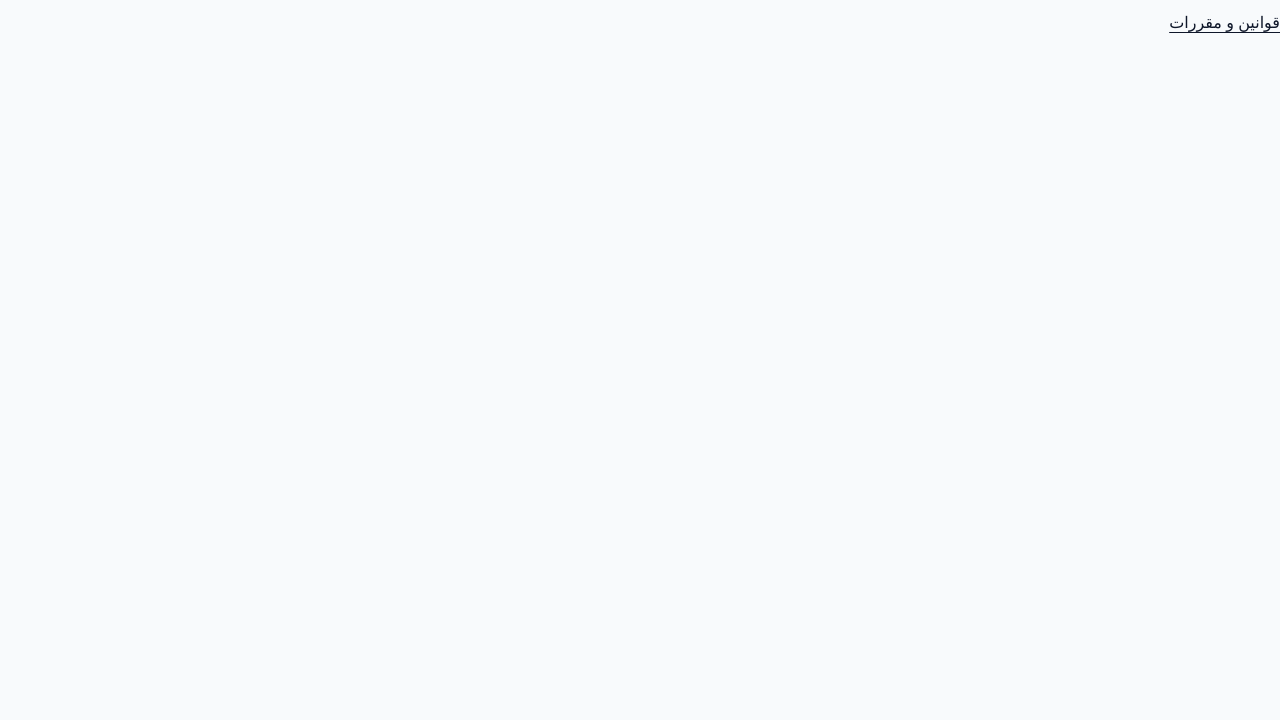
it: DynamicSlot dialog-link › its «بستن» closes it; a second press opens it again
# Without a label, the link reads as the slot's own name.
Click the button "قوانین و مقررات".
click(1225, 22)  # box [1169,0,1279,44]
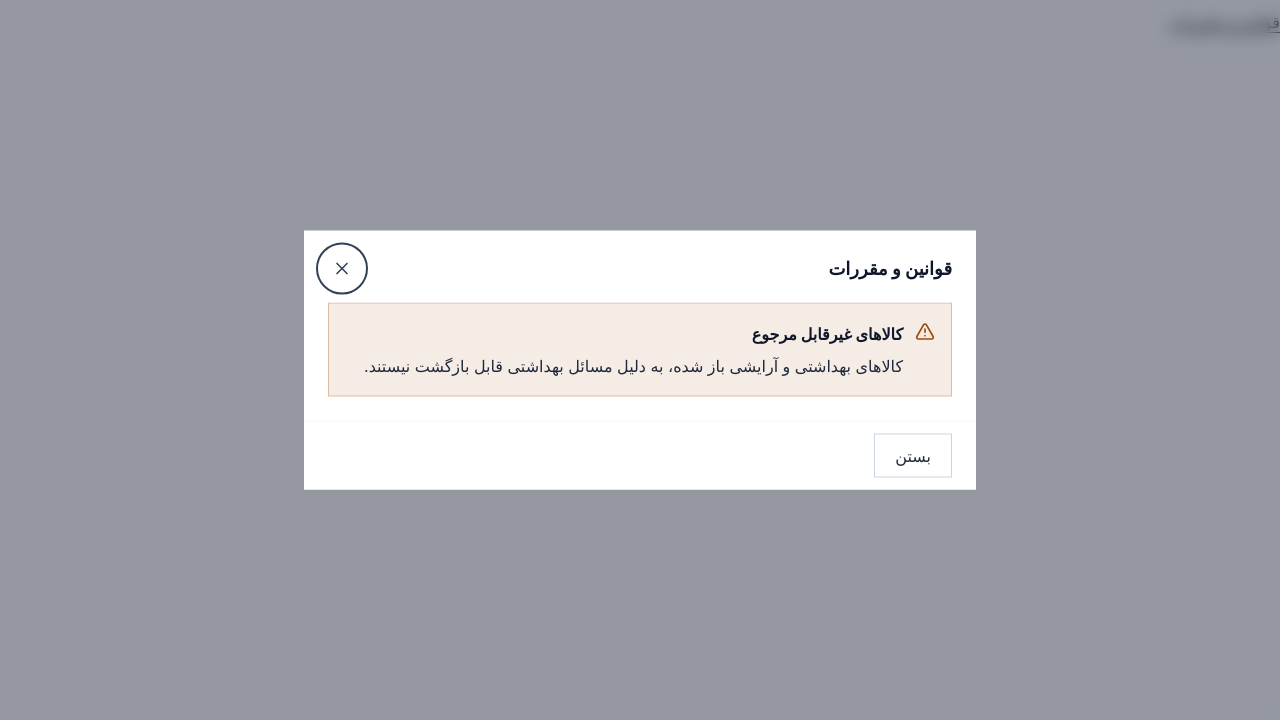
Click the button "بستن".
click(913, 456)  # box [874,434,952,478]
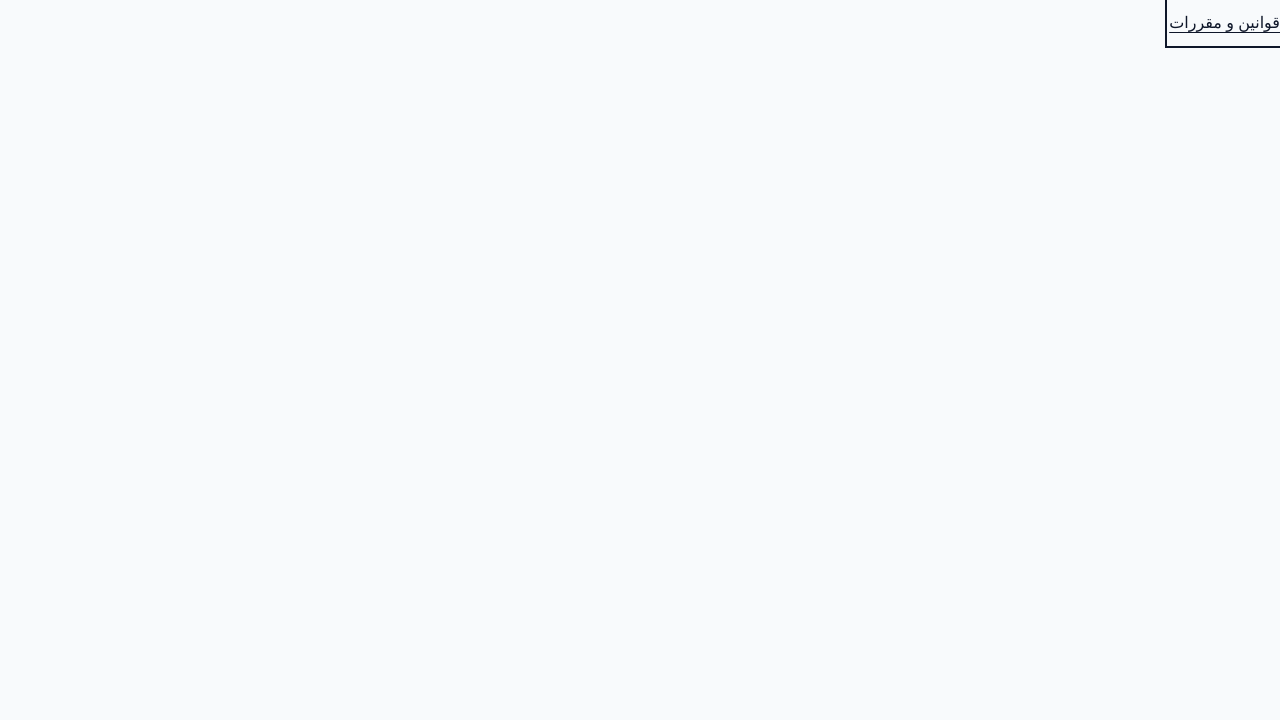
Expected: the dialog is gone
Click the button "قوانین و مقررات".
click(1225, 22)  # box [1169,0,1279,44]
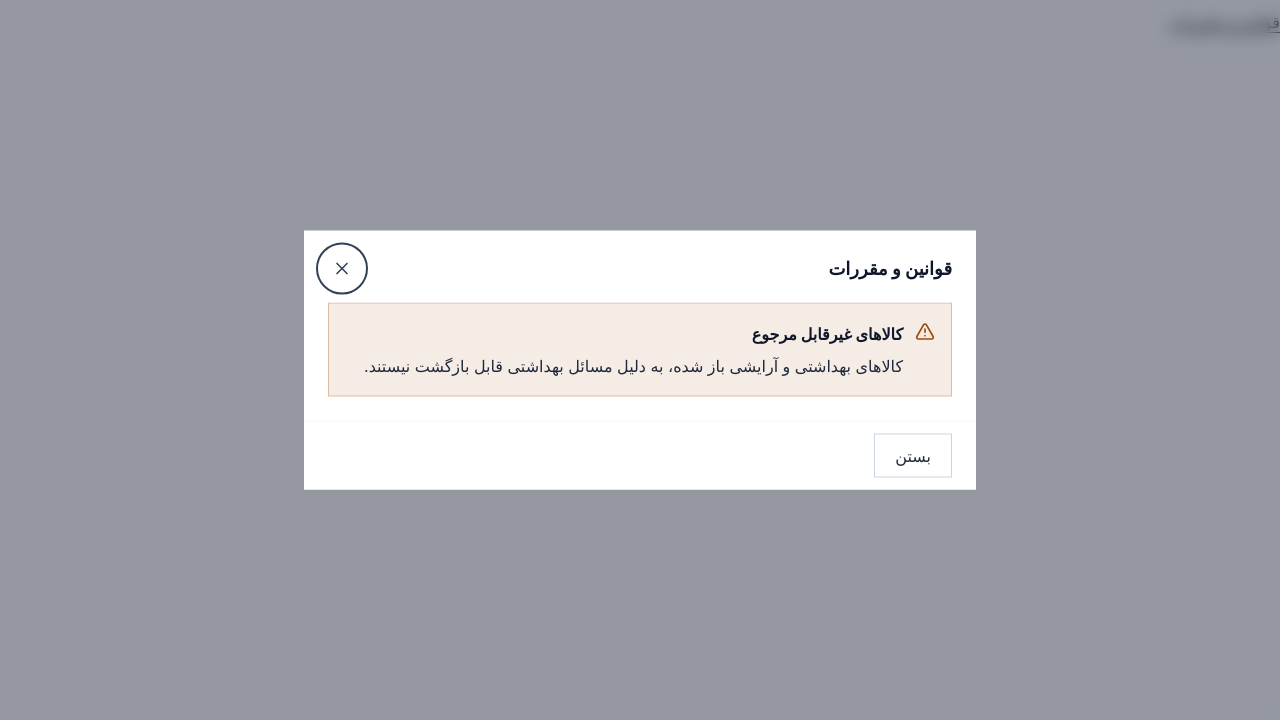
Expected: the dialog is shown, [304,230,976,490]
